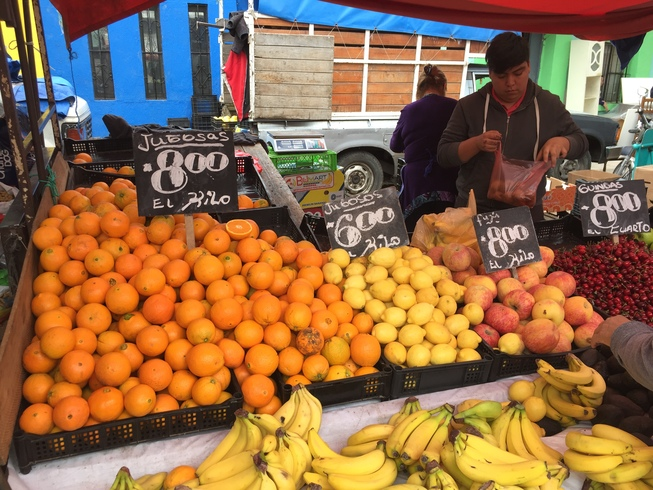precio: (125, 125, 243, 216), (320, 181, 420, 268), (469, 202, 553, 280), (573, 174, 653, 242)
